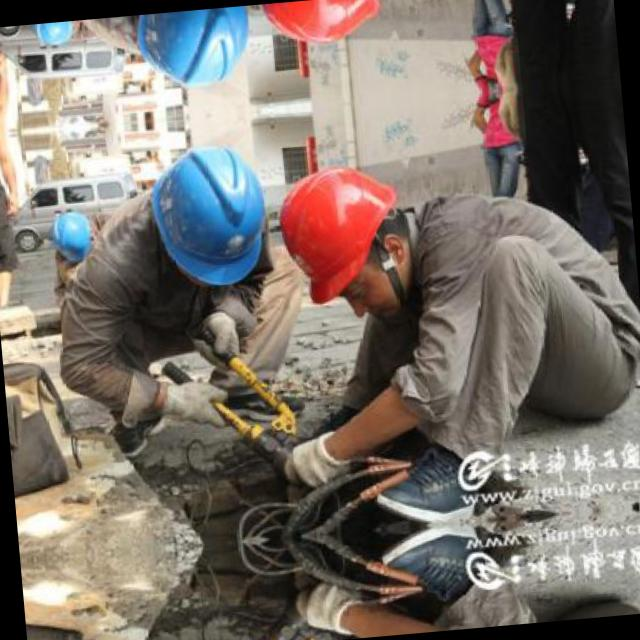helmet: (268, 149, 426, 326), (138, 132, 274, 296), (126, 5, 258, 100), (254, 0, 403, 60), (44, 204, 100, 272), (27, 20, 82, 54)
